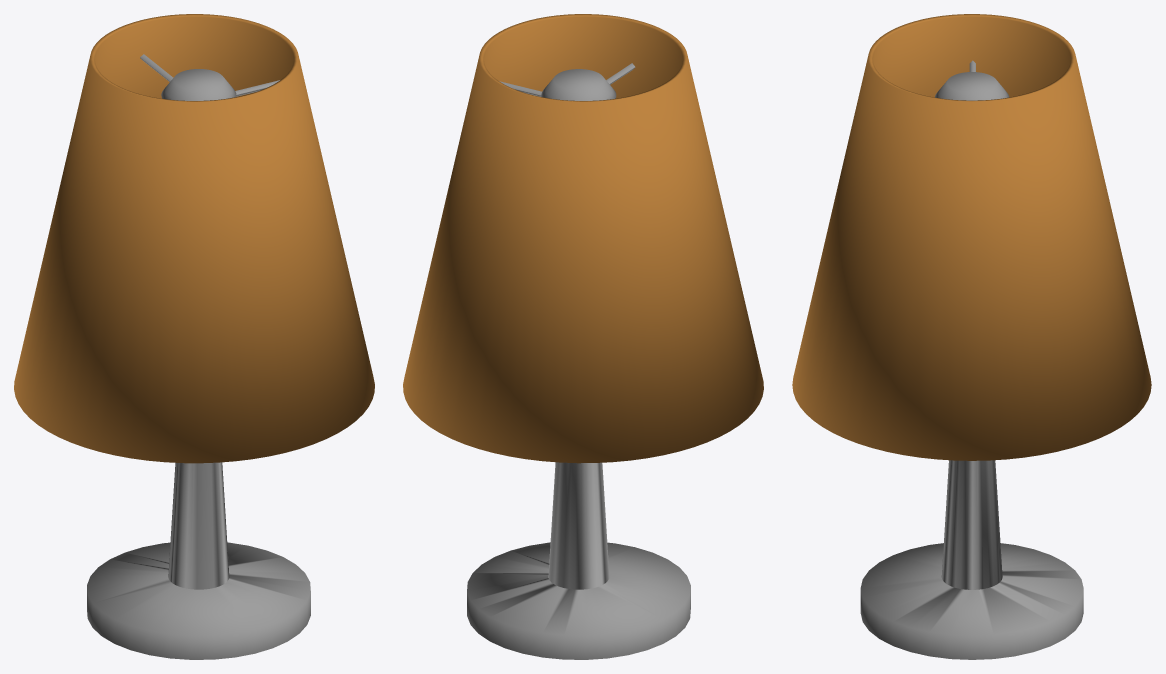
Rendered from lamp.glb.
The picture shows the model from 3 angles, left to right: view 1: azimuth 30°, elevation 25°; view 2: azimuth 150°, elevation 25°; view 3: azimuth 270°, elevation 25°; orthographic projection.
Parts seen in each view (by area): view 1: Cylinder.001, Cylinder; view 2: Cylinder.001, Cylinder; view 3: Cylinder.001, Cylinder.
Part boxes in pixels (<box>): Cylinder.001: <box>14,14,374,463</box>; Cylinder: <box>87,69,310,659</box>; Cylinder.001: <box>403,14,763,463</box>; Cylinder: <box>467,69,690,659</box>; Cylinder.001: <box>792,14,1151,460</box>; Cylinder: <box>860,72,1083,659</box>.
Size of the model in its own units: 1.17 by 1.99 by 1.17.
